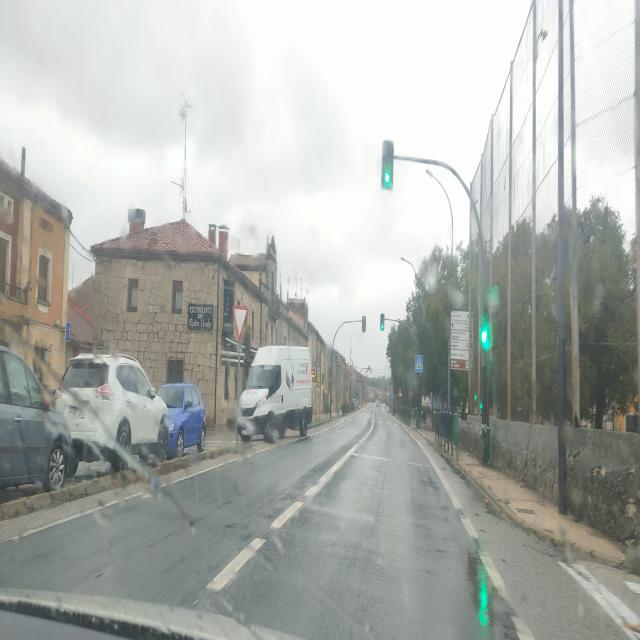Poth-hole: (461, 541, 518, 640)
